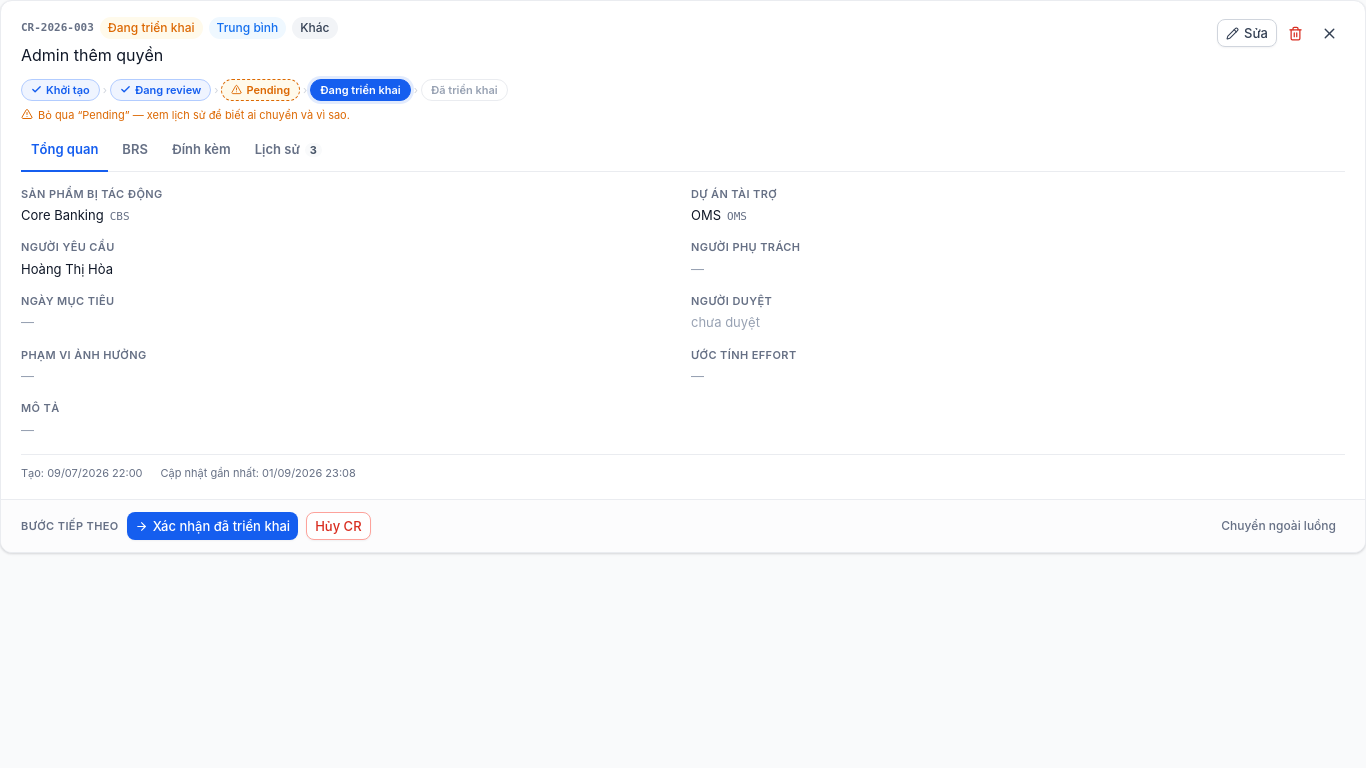
Test: CrDetailPanel — lịch sử › nước đi ngoài luồng hiện nhãn riêng, không phải mã thô của DB
The width and height of the screenshot is (1366, 768).
Click the button "Lịch sử3" at (288, 155), box [245,138,332,172]
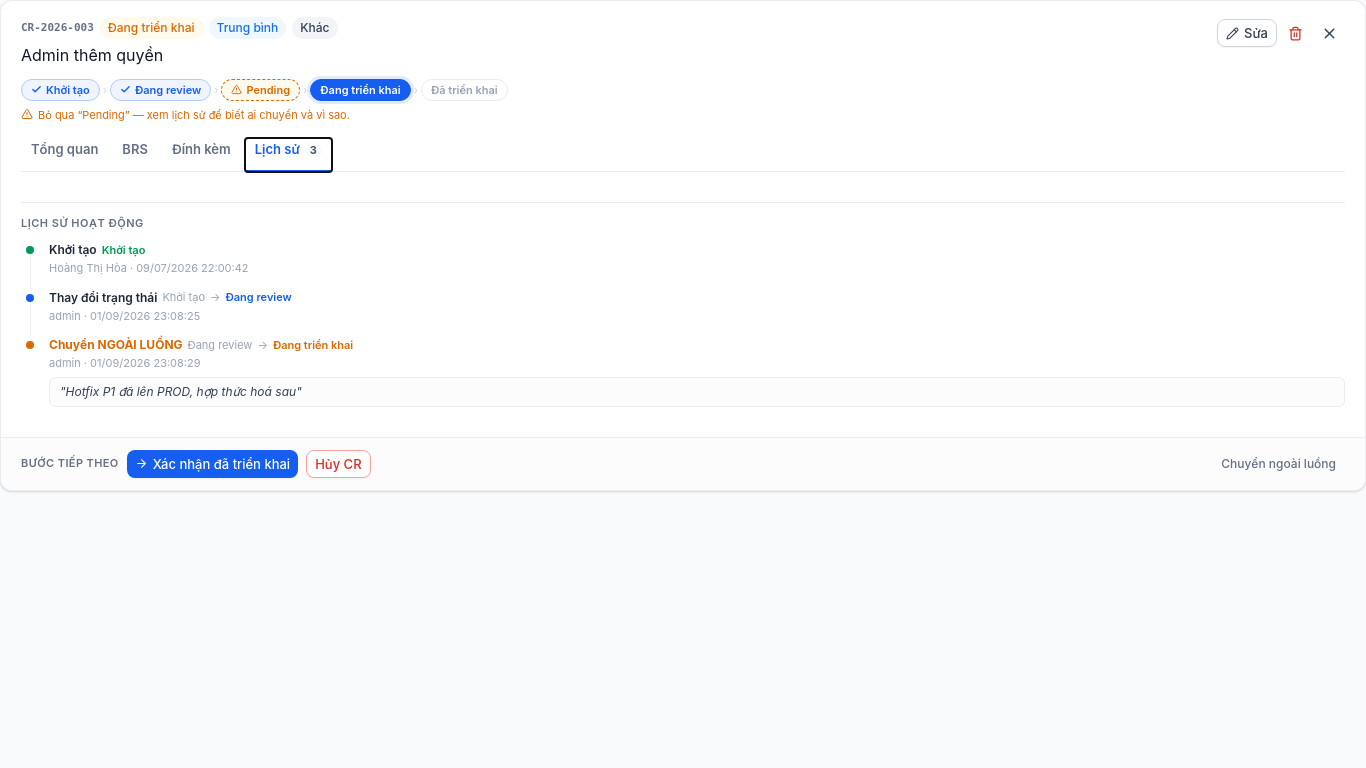
Expected: the text "Chuyển NGOÀI LUỒNG" is shown, [49,336,182,354]
Expected: the text "\"Hotfix P1 đã lên PROD, hợp thức hoá sau\"" is shown, [49,377,1345,407]
